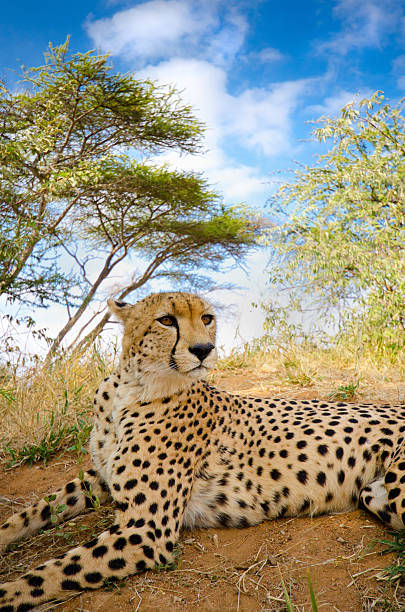cheetah: (92, 282, 229, 398)
